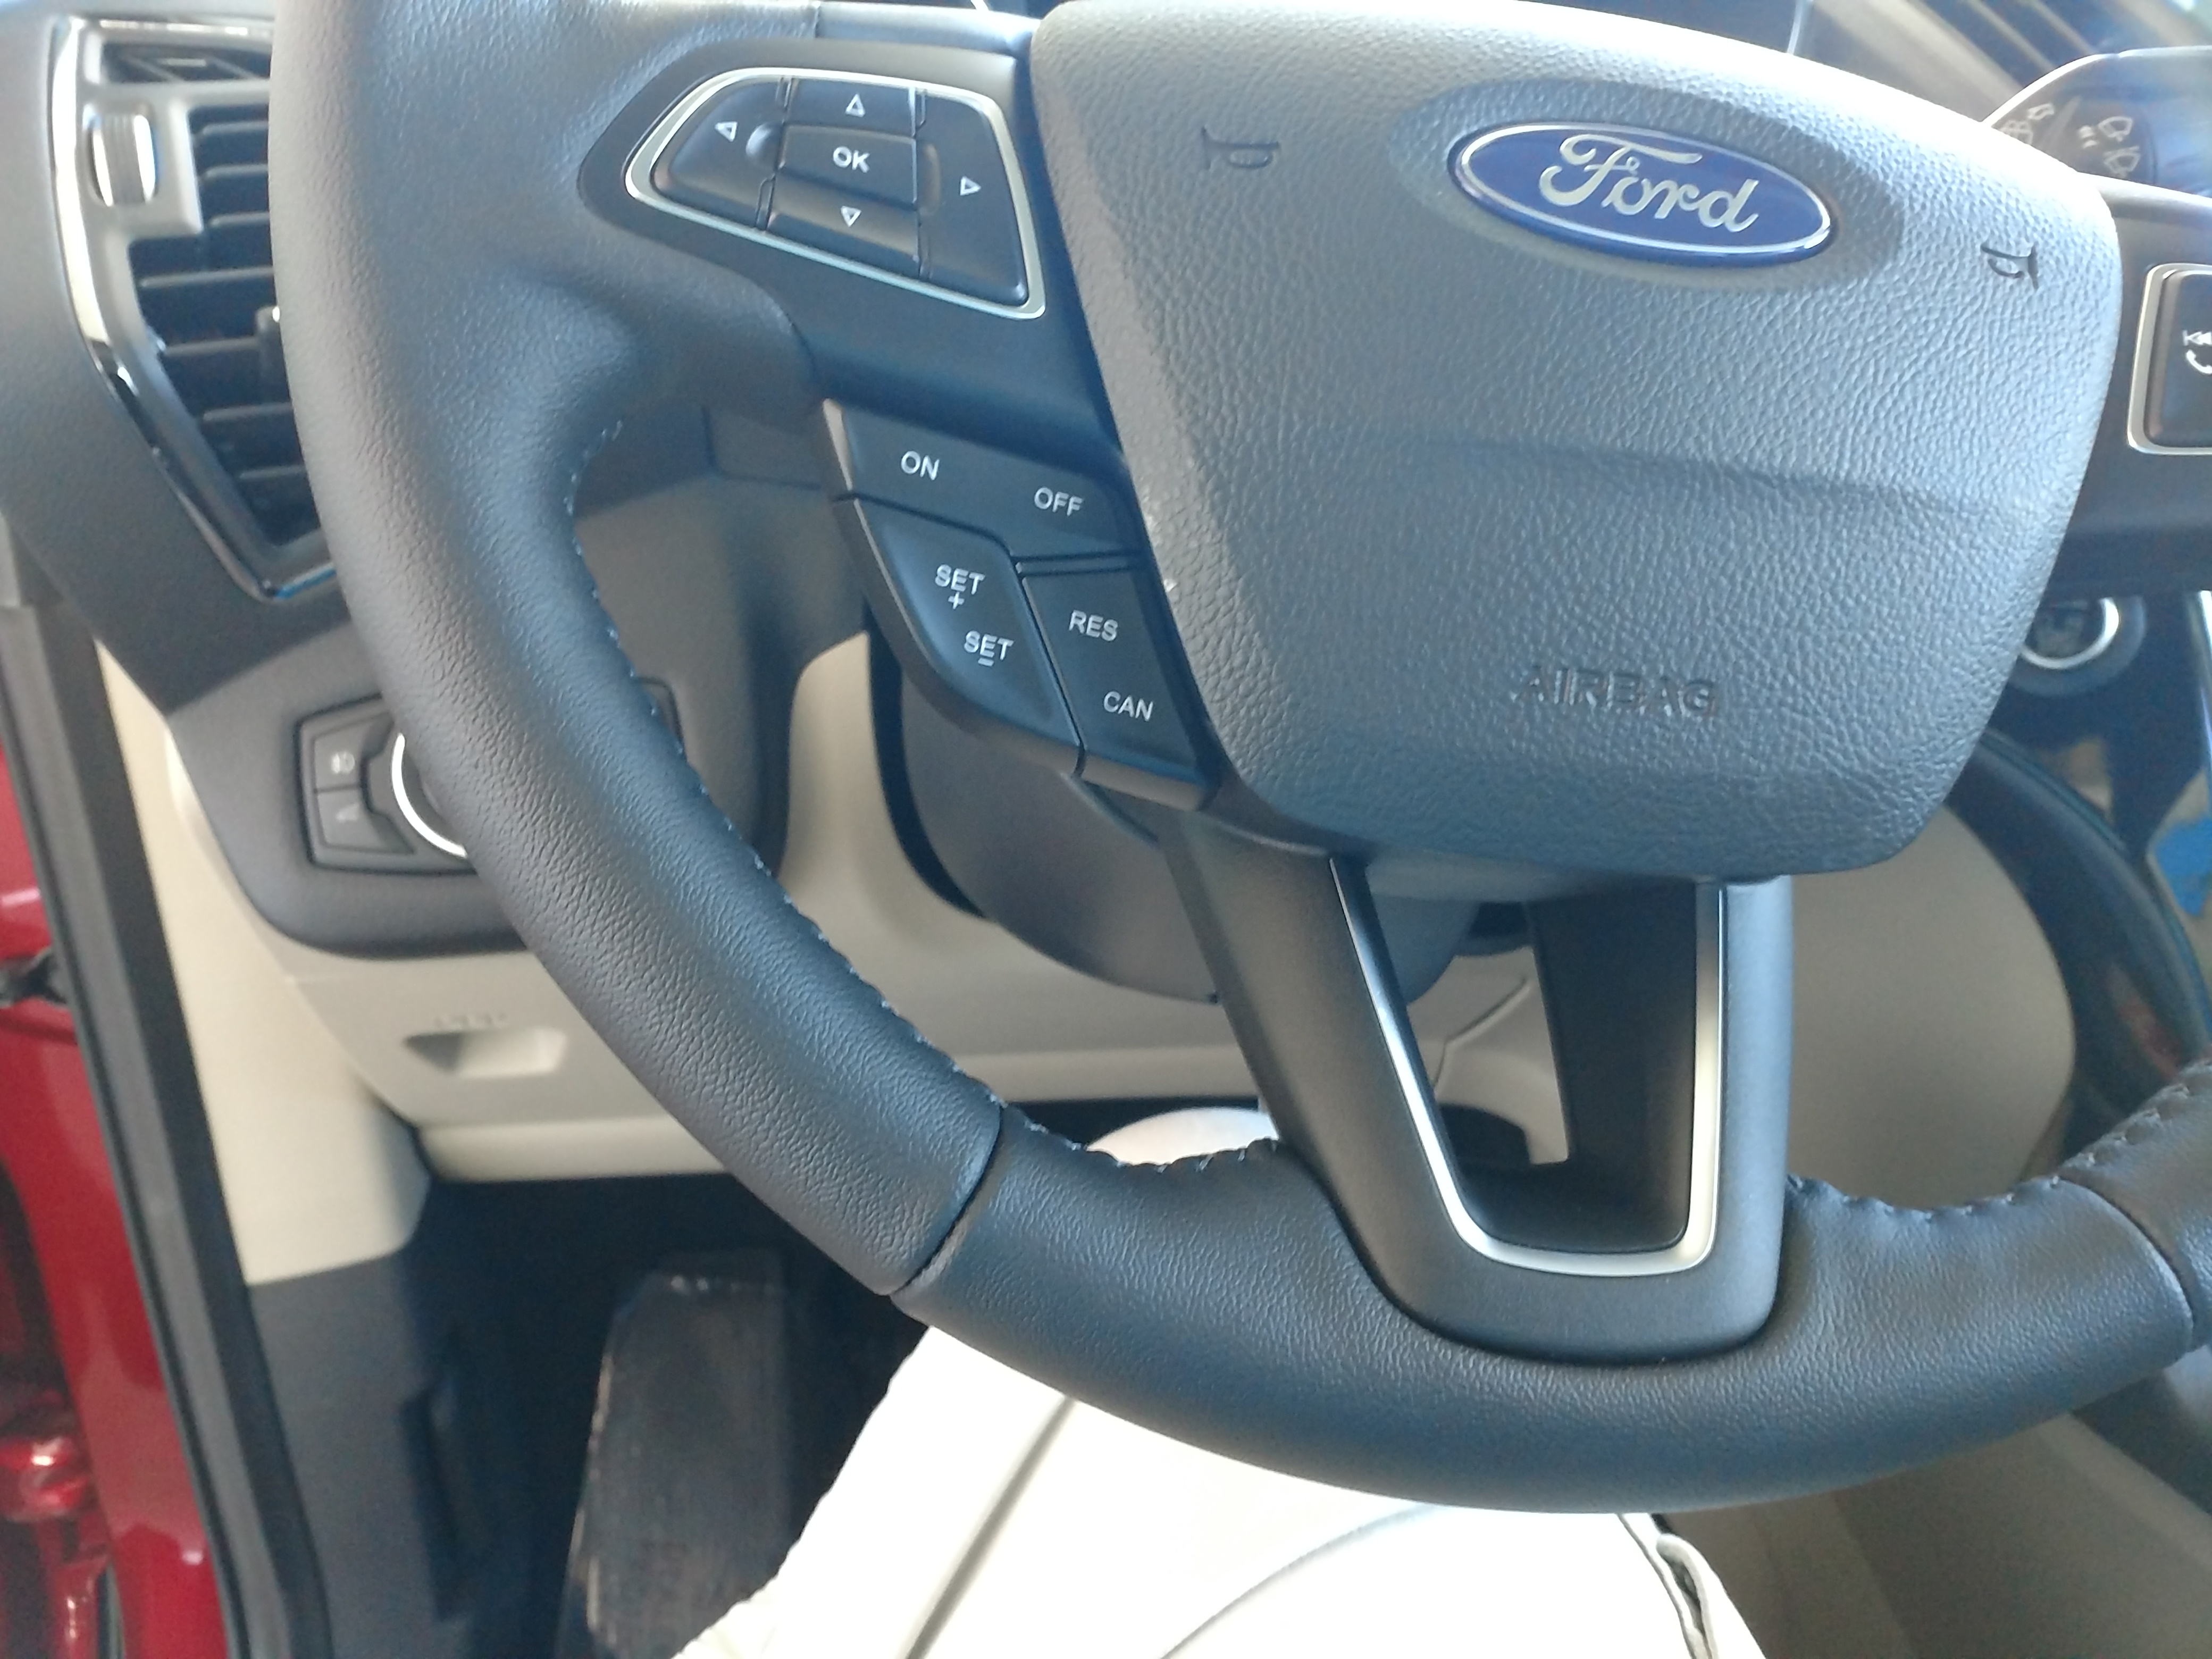Ford: (1426, 94, 1857, 284)
